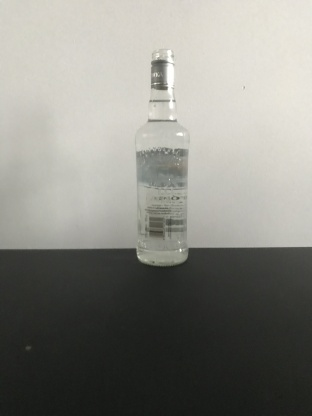nakretka: (149, 47, 176, 90)
